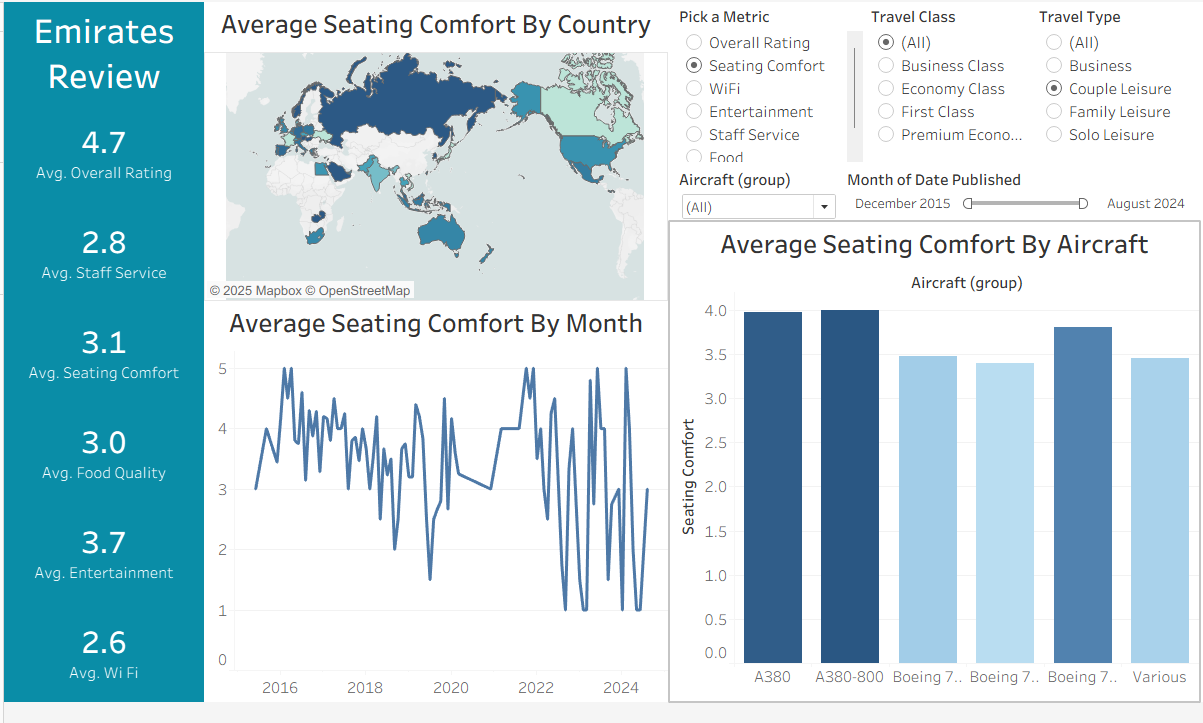

The dashboard page shown, as its layout file describes it:
{"tool":"tableau","page":{"name":"Dashboard 1","canvas":[1000,1000],"units":"permille","ordinal":0},"visuals":[{"type":"title","box":[0,0,166.7,142.9]},{"type":"worksheet","title":"Map","mark":"Automatic","box":[166.7,0,386.7,427.1]},{"type":"parameter","param":"[Parameters].[Parameter 1]","box":[559.2,0,160,234.3]},{"type":"filter","title":"Map","param":"[federated.0ir77ue06231eb1fkkgp30e1slwy].[none:Travel Class:nk]","box":[719.2,0,140,234.3]},{"type":"filter","title":"Map","param":"[federated.0ir77ue06231eb1fkkgp30e1slwy].[none:Travel Type:nk]","box":[859.2,0,139.2,215.7]},{"type":"worksheet","title":"Summary","mark":"Automatic","box":[0,142.9,166.7,857.1]},{"type":"filter","title":"Map","param":"[federated.0ir77ue06231eb1fkkgp30e1slwy].[Aircraft (group)]","box":[559.2,232.9,140,101.4]},{"type":"filter","title":"Map","param":"[federated.0ir77ue06231eb1fkkgp30e1slwy].[tmn:Date Published:qk]","box":[699.2,232.9,304.2,101.4]},{"type":"worksheet","title":"Aircraft","mark":"Automatic","rows":["Calculation_934778424433147904"],"box":[555,314.3,440.8,687.1]},{"type":"worksheet","title":"Month","mark":"Automatic","rows":["Calculation_934778424433147904"],"cols":["Date Flown"],"box":[166.7,427.1,386.7,570]}]}

Visuals, with their boxes on the dashboard's canvas, which has no fixed pixel size, in thousandths of its width and height (x1, y1, x2, y2). These are canvas units, not pixel positions in the 1203x723 screenshot, which may show the page scaled, cropped or inside an application window:
title: locate(0, 0, 167, 143)
"Map" worksheet: locate(167, 0, 553, 427)
parameter: locate(559, 0, 719, 234)
"Map" filter: locate(719, 0, 859, 234)
"Map" filter: locate(859, 0, 998, 216)
"Summary" worksheet: locate(0, 143, 167, 1000)
"Map" filter: locate(559, 233, 699, 334)
"Map" filter: locate(699, 233, 1003, 334)
"Aircraft" worksheet: locate(555, 314, 996, 1001)
"Month" worksheet: locate(167, 427, 553, 997)
